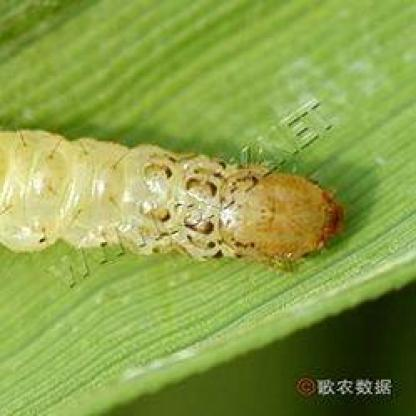leaf-folder: (4, 122, 343, 260)
